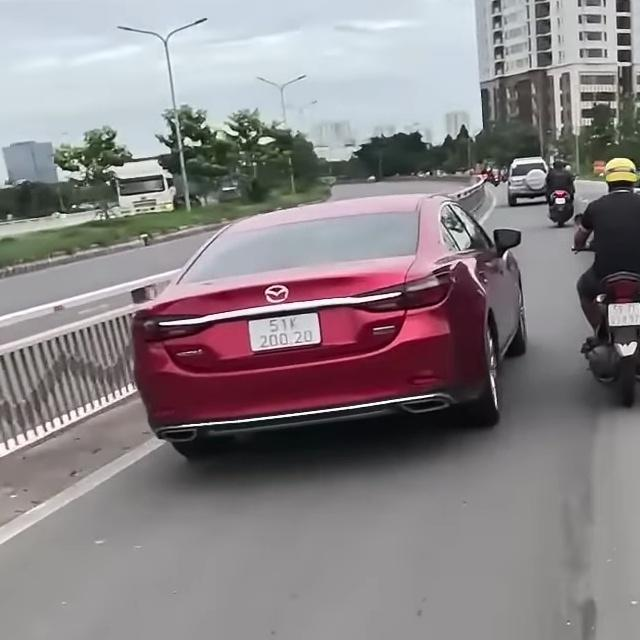license-plate: (248, 311, 322, 352)
